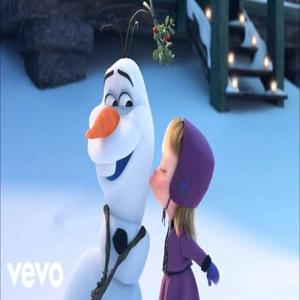olaf: (96, 4, 150, 298)
